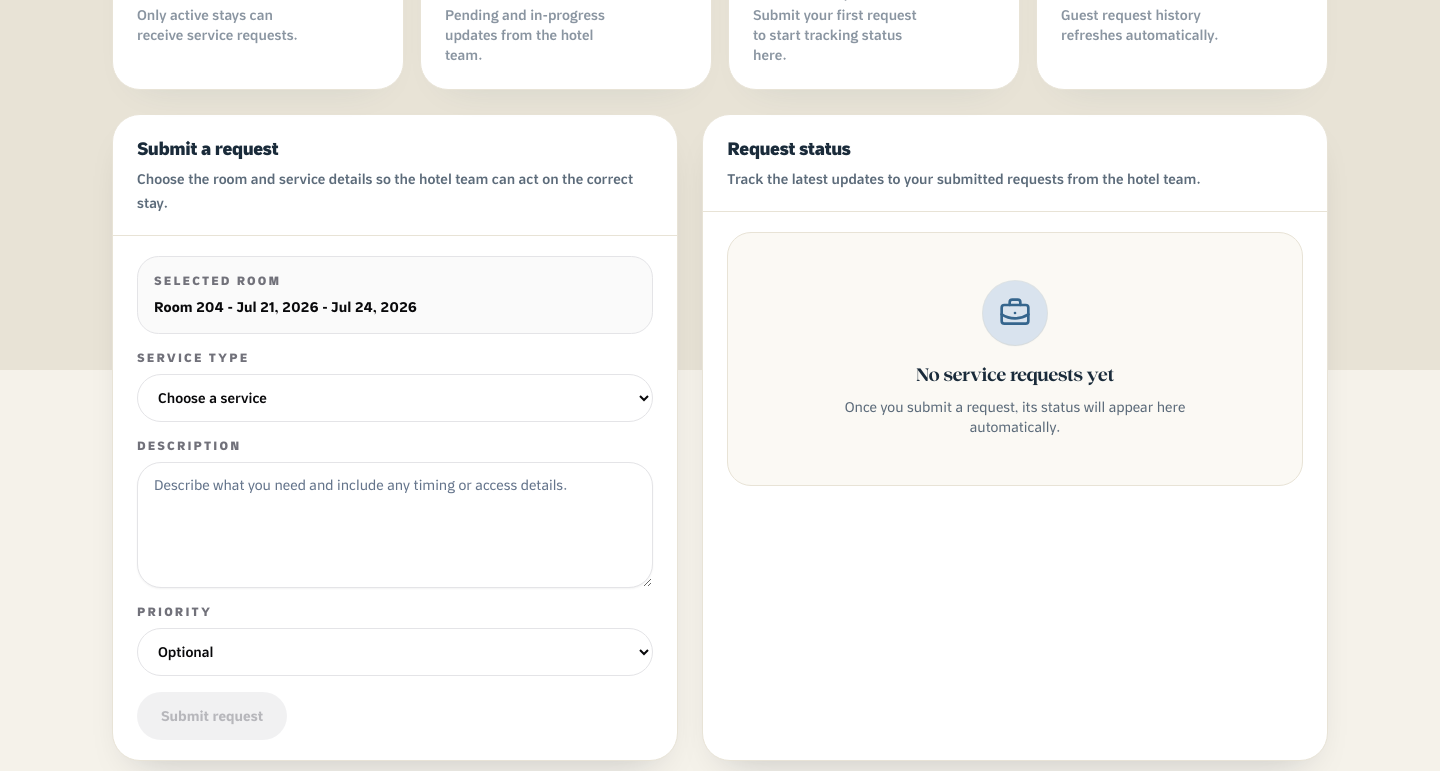
Test: GuestServiceRequests › auto-selects a single active room and submits a service request
The image size is (1440, 771).
(page scrolled)
Expected: the text "Selected Room" is shown, [154,273,281,288]
Select "Room Cleaning" in the dropdown labelled "Service Type": (395, 398) [137,374,653,422]
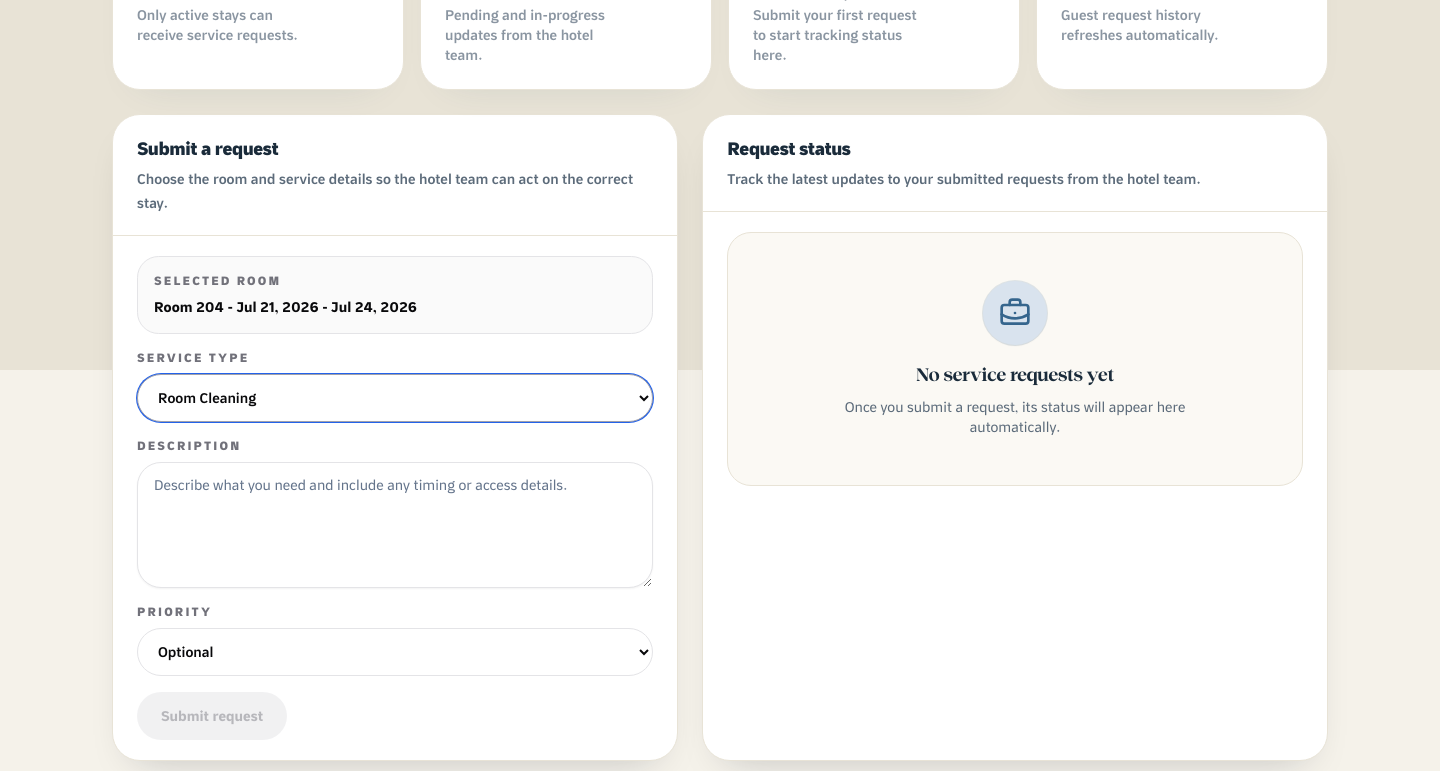
In the text box labelled "Description": (395, 525) [137,462,653,588], type "Fresh towels and a quick tidy-up."
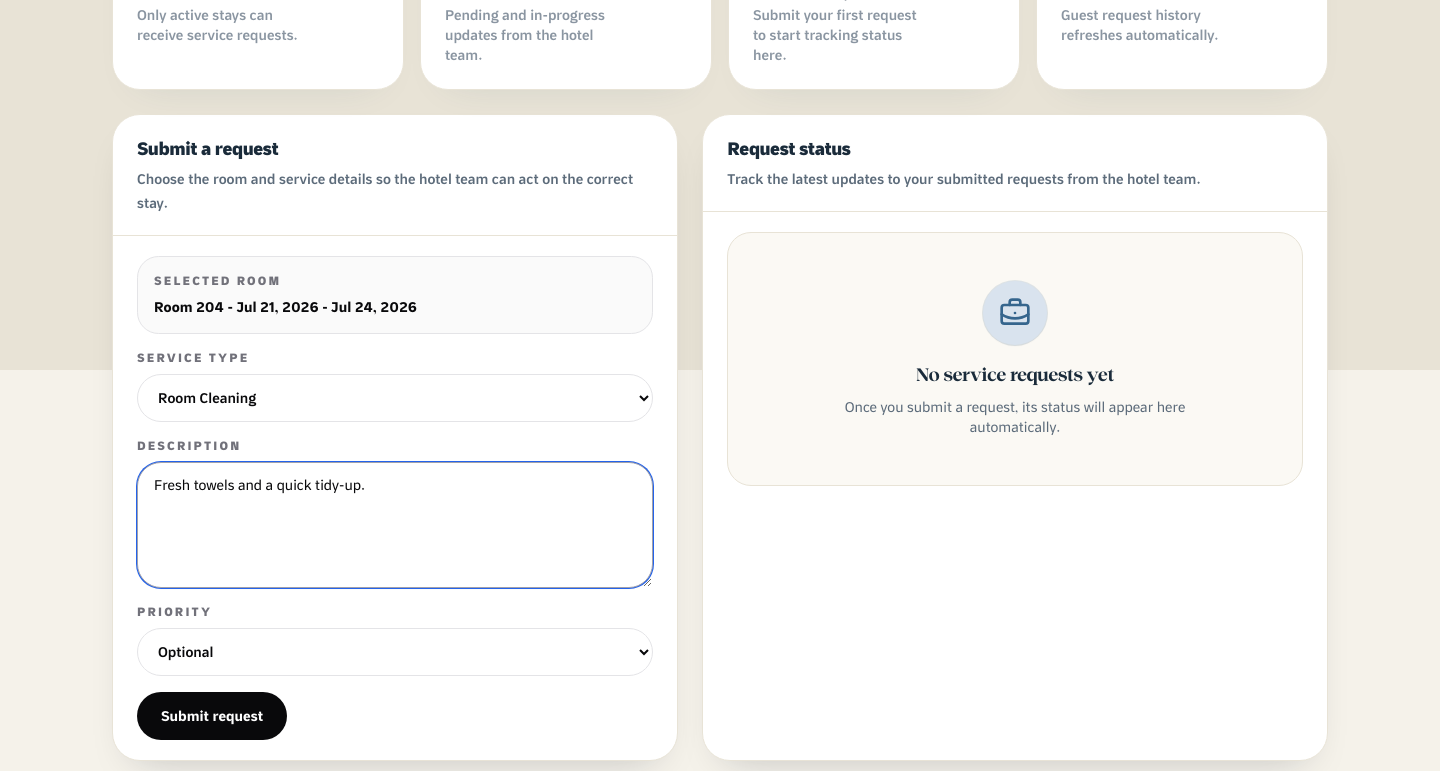
Select "High" in the dropdown labelled "Priority": (395, 652) [137,628,653,676]
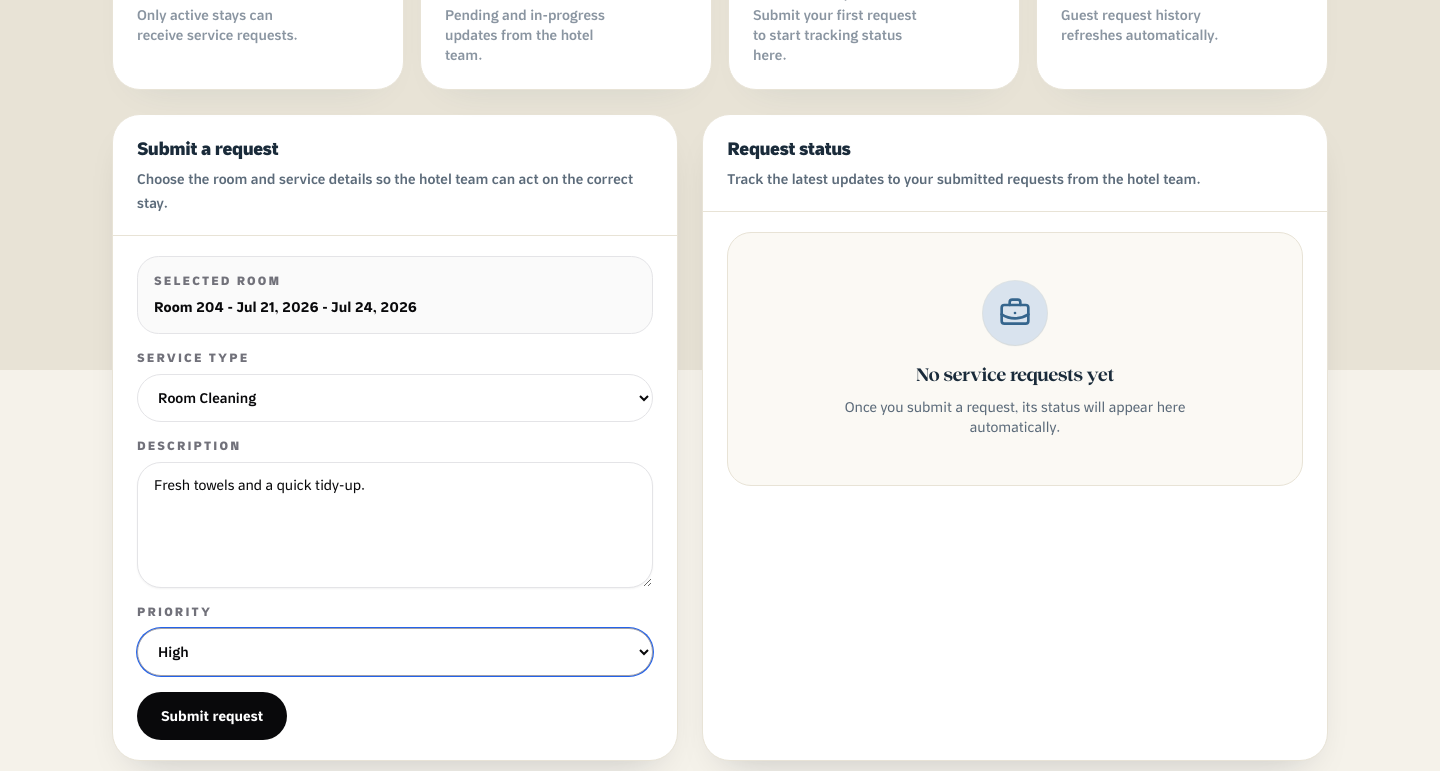
Click the button "Submit request": (212, 716) [137,692,287,740]
(page scrolled)
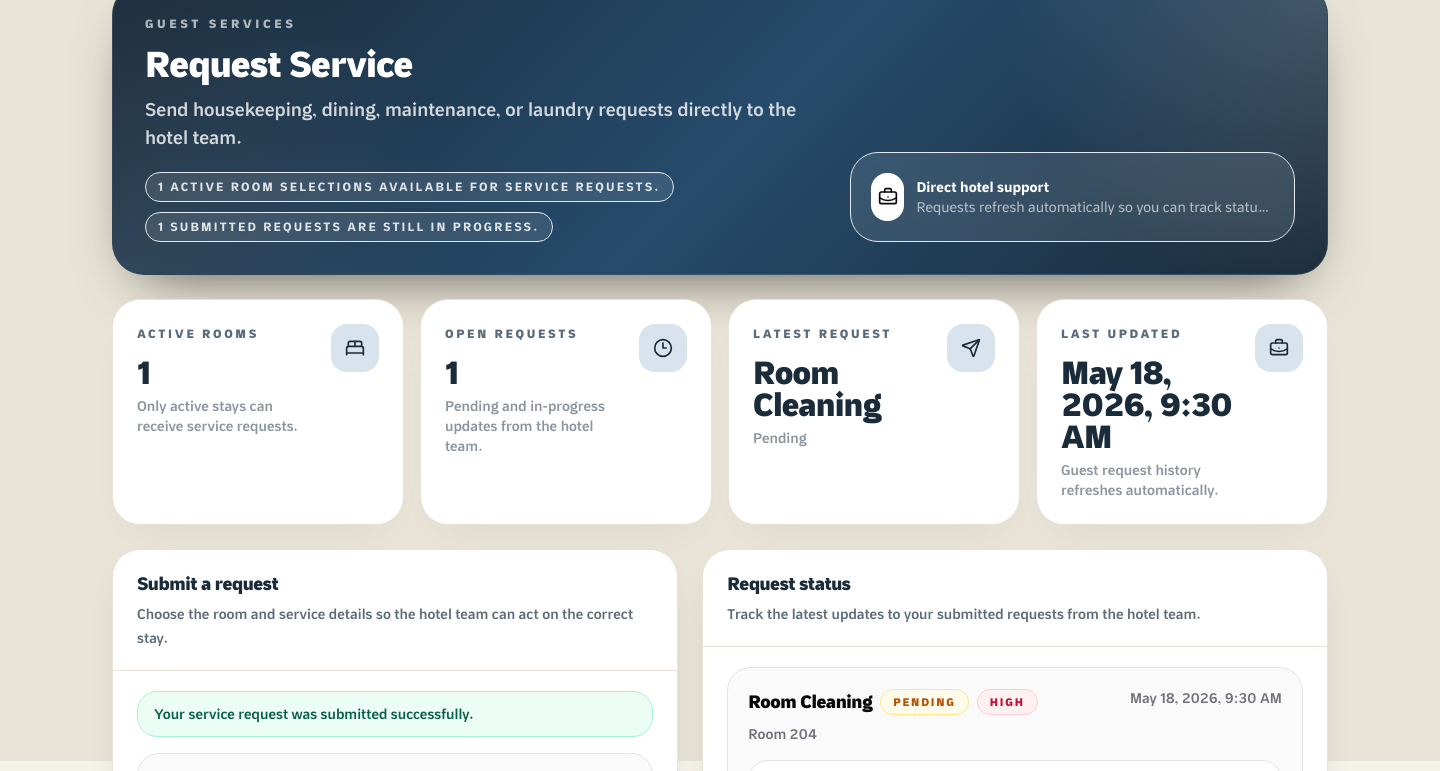
Now the text "Your service request was submitted successfully." is shown, box [137,691,653,737]
Now the text "Room Cleaning" is shown, box [753,352,881,424]
